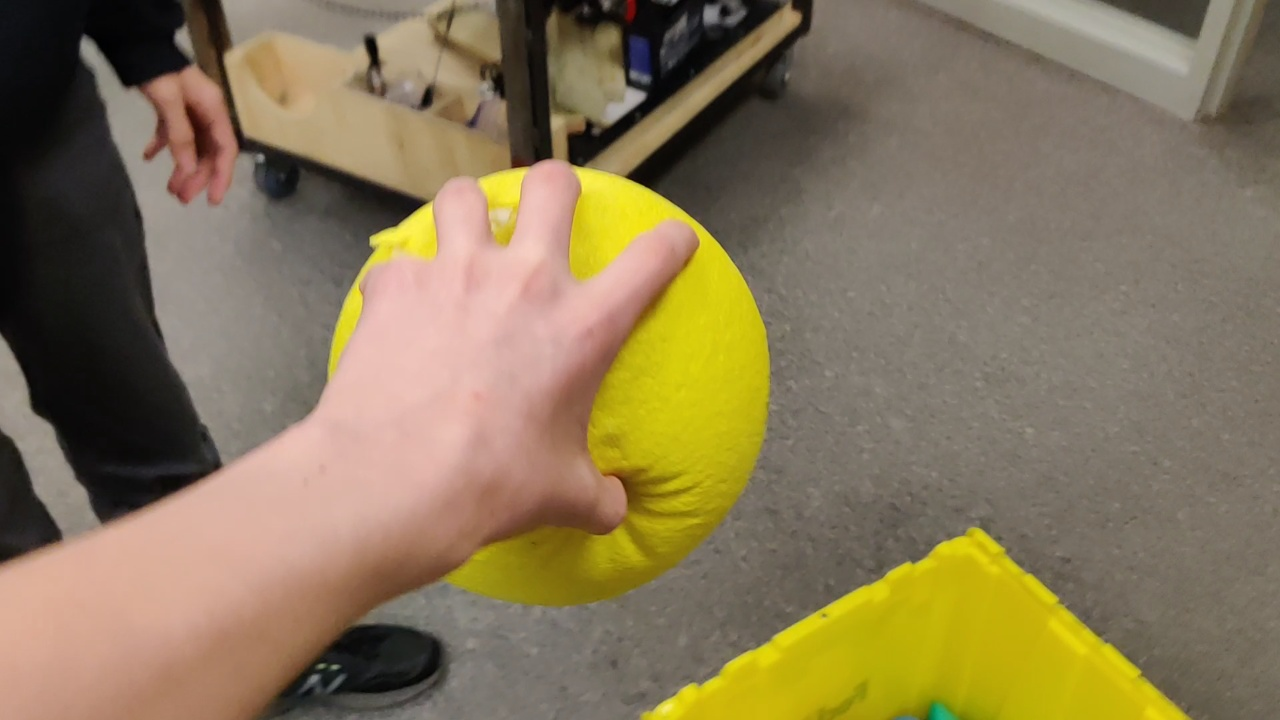Ball: (596, 250, 773, 522)
